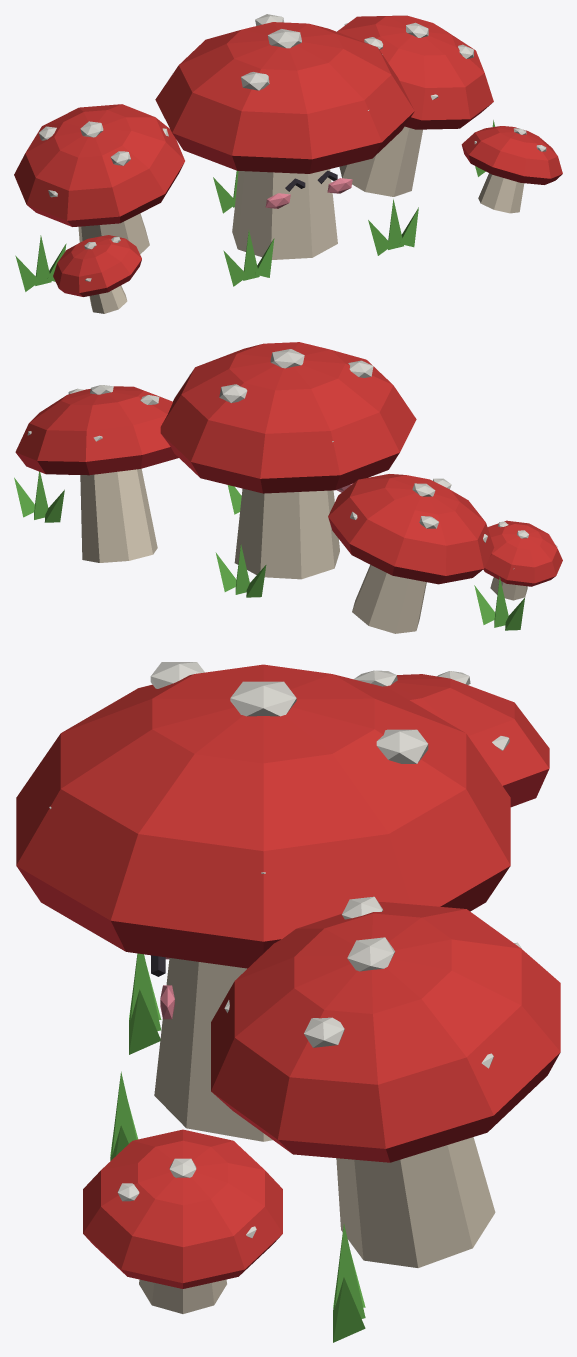
File: habitat_prop_mushie.fbx
The picture shows the model from 3 angles, top to bottom: view 1: azimuth 30°, elevation 25°; view 2: azimuth 150°, elevation 25°; view 3: azimuth 270°, elevation 25°; orthographic projection. The views are drawn at different scales.
Visible parts, largest first — view 1: habitat_prop_mushie; view 2: habitat_prop_mushie; view 3: habitat_prop_mushie.
Boxes of the visible parts, x1=… form: habitat_prop_mushie: x1=14, y1=14, x2=562, y2=313; habitat_prop_mushie: x1=14, y1=342, x2=562, y2=633; habitat_prop_mushie: x1=16, y1=662, x2=560, y2=1342.
Size of the model in its own units: 1.89 by 0.7615 by 0.8797.
